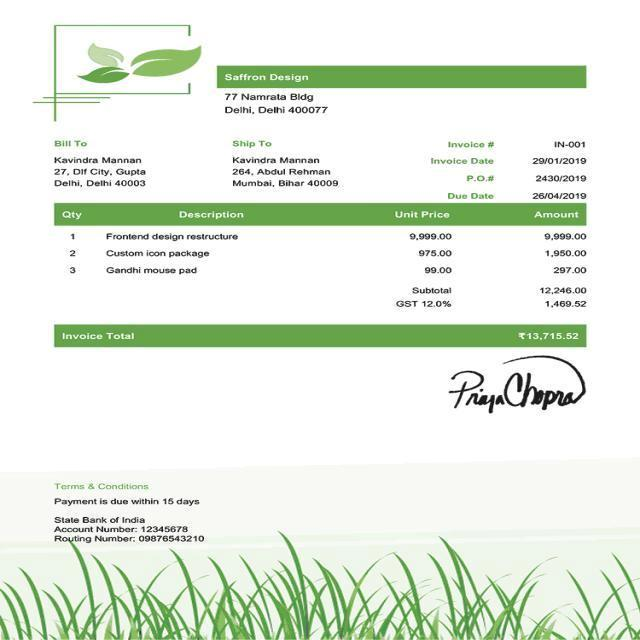paragraph: (418, 136, 598, 206), (53, 475, 213, 548), (58, 329, 582, 349), (442, 352, 589, 423), (50, 137, 163, 193), (223, 71, 363, 116)
table: (57, 201, 592, 310)
